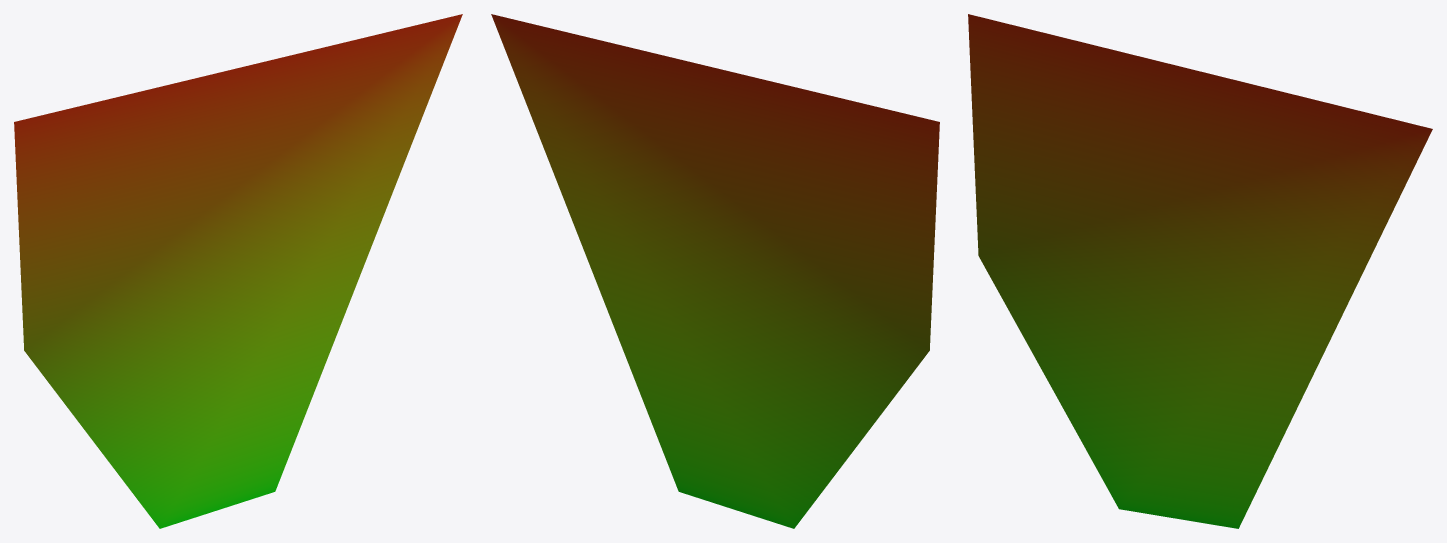
The model's file is Chamomile_LOD4_Var10.fbx.
3 renders of one model, left to right at view 1: azimuth 30°, elevation 25°; view 2: azimuth 150°, elevation 25°; view 3: azimuth 330°, elevation 25°, orthographic. The views are drawn at different scales.
Parts seen in each view (by area): view 1: _oh85_Var10_LOD4; view 2: _oh85_Var10_LOD4; view 3: _oh85_Var10_LOD4.
Part boxes in pixels (x1,y1,x2,y2): _oh85_Var10_LOD4: (14,14,462,528); _oh85_Var10_LOD4: (491,14,939,528); _oh85_Var10_LOD4: (968,14,1432,528).
Size of the model in its own units: 18.62 by 17.54 by 2.09e-06.
